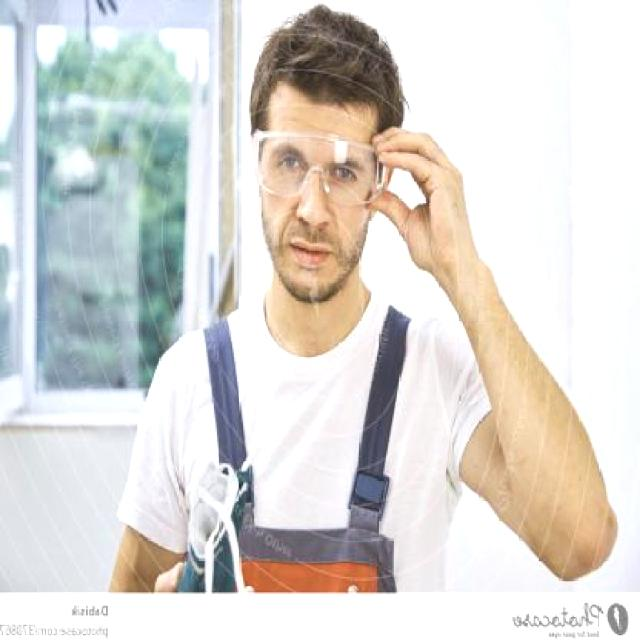face_nomask: (260, 138, 363, 271)
glasses: (252, 125, 391, 209)
hand_noglove: (360, 120, 478, 262)
head_nohelmet: (248, 5, 403, 121)
person: (92, 19, 542, 592)
